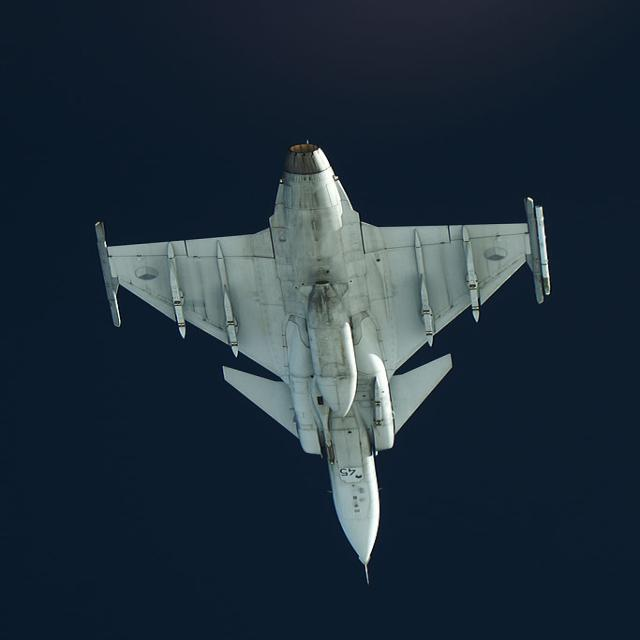MIL_Plane: (95, 138, 552, 585)
